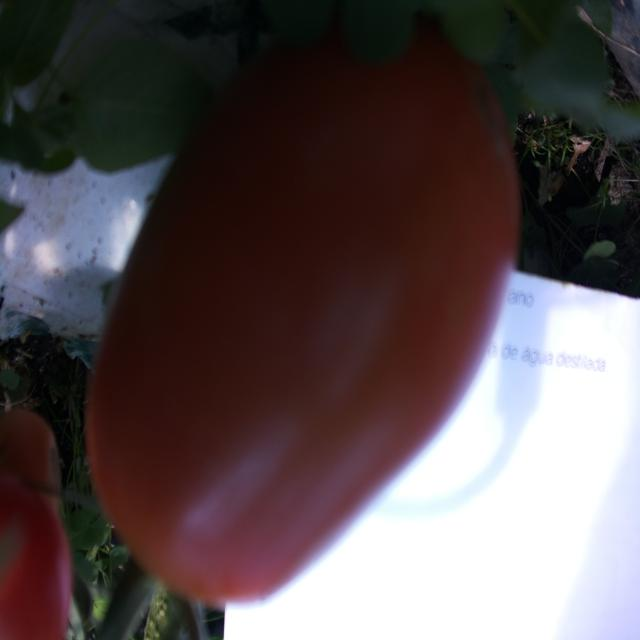kirmizi: (66, 2, 513, 594)
